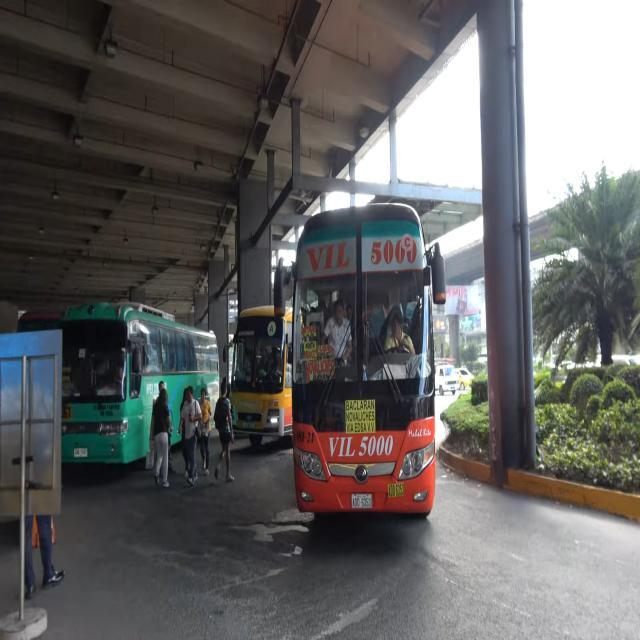bus: (290, 200, 444, 524), (62, 292, 216, 478), (229, 298, 293, 451)
